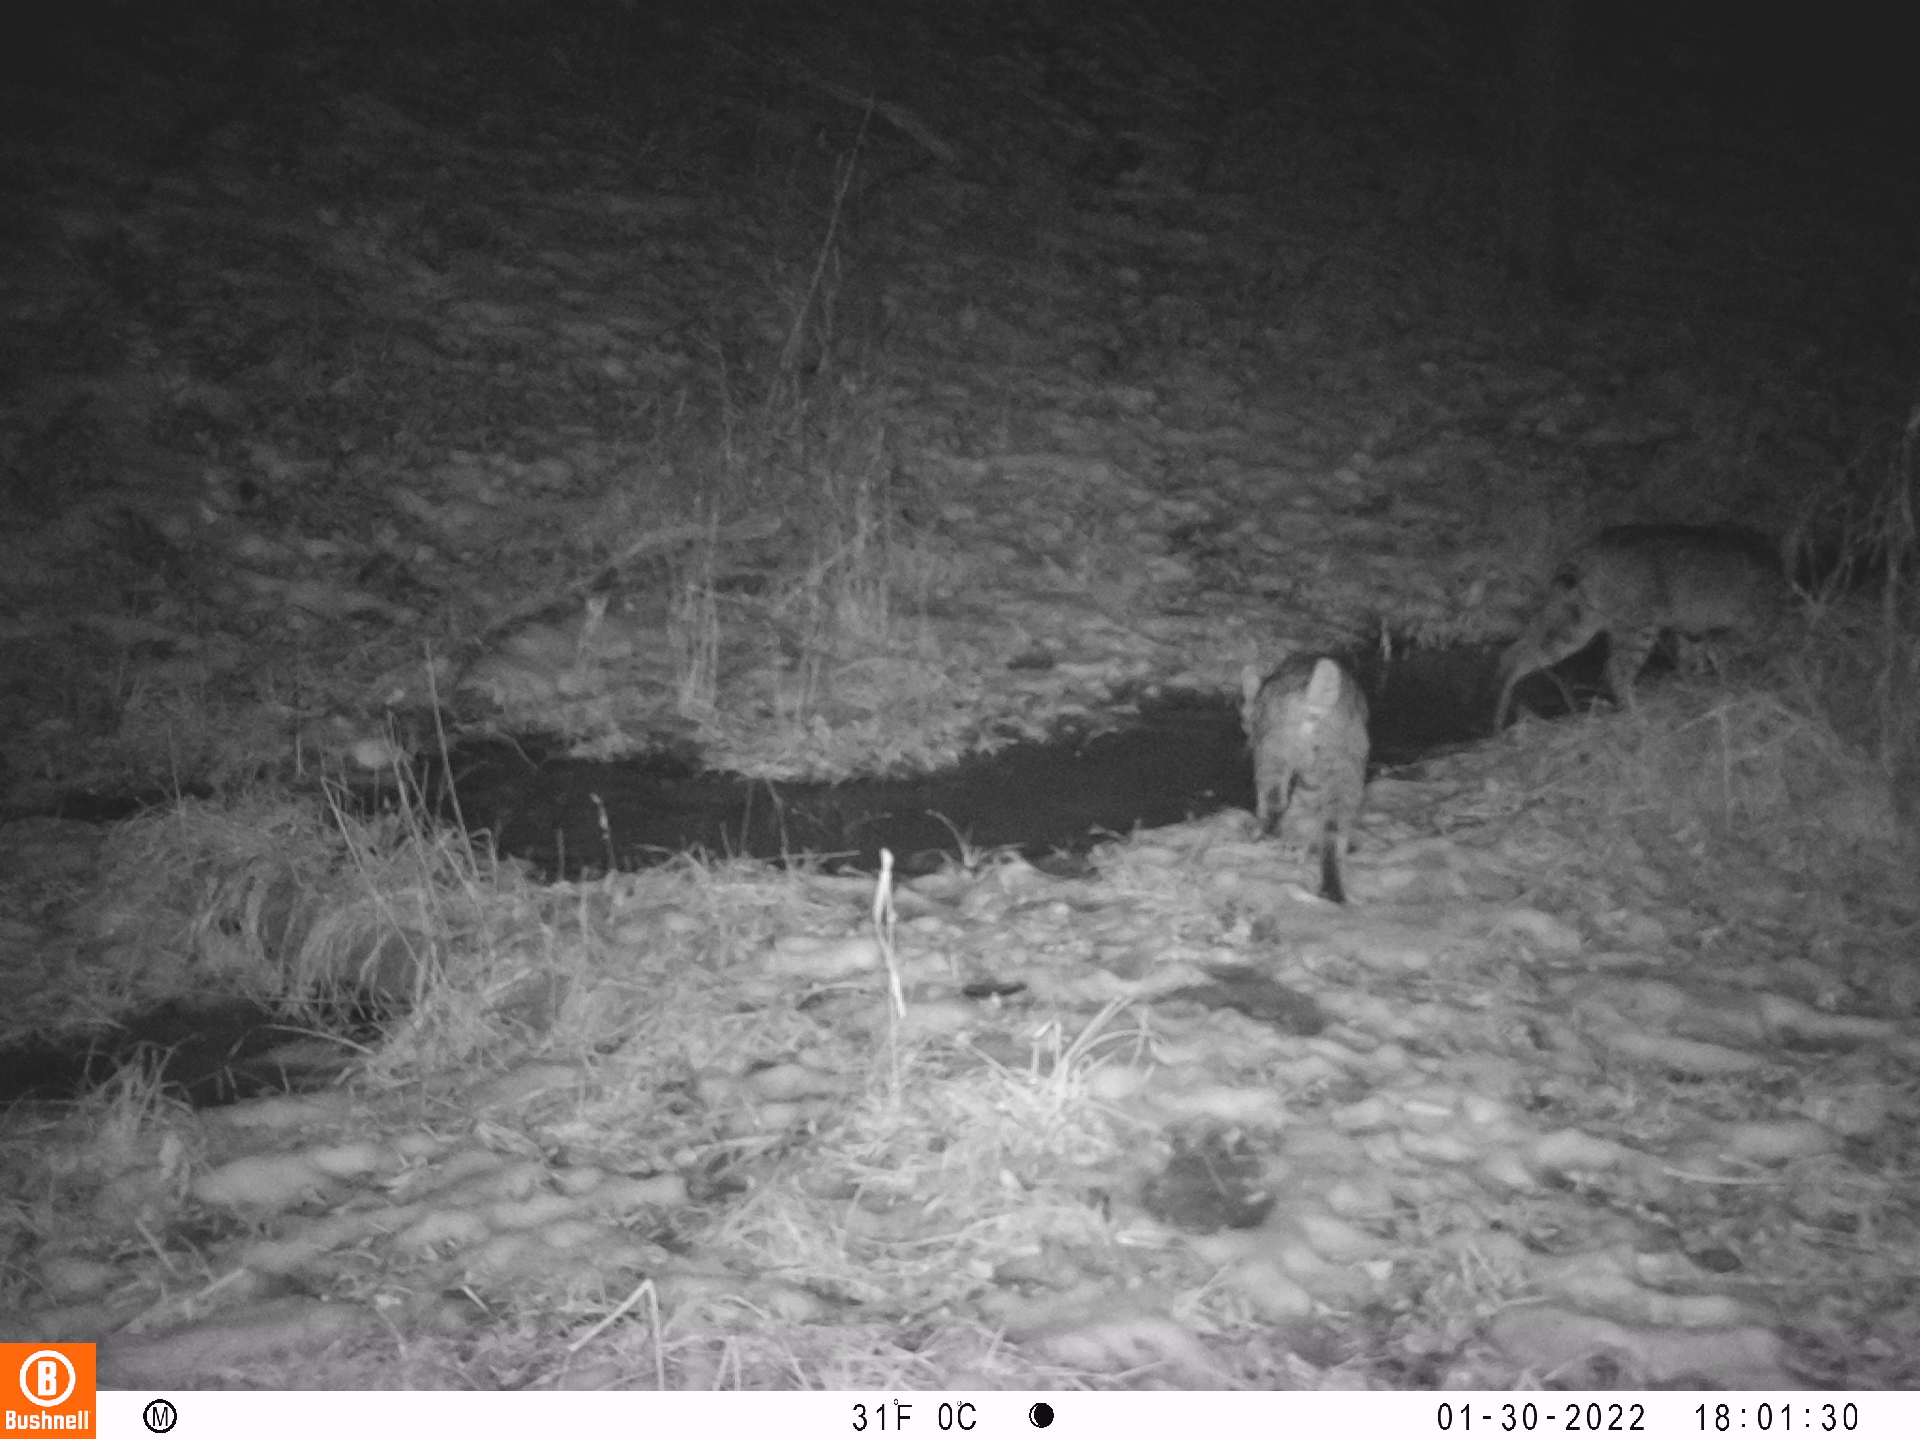Bobcat: (1476, 520, 1811, 732), (1249, 644, 1371, 905)
